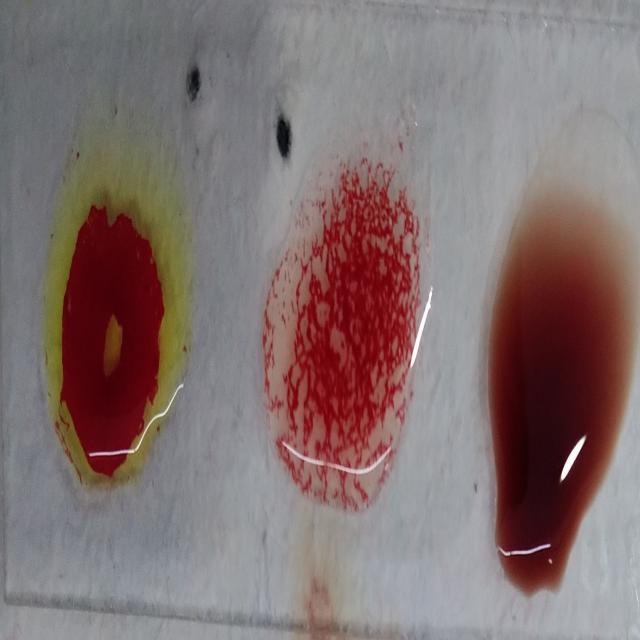B: (40, 104, 192, 500)
D: (258, 136, 428, 512)
